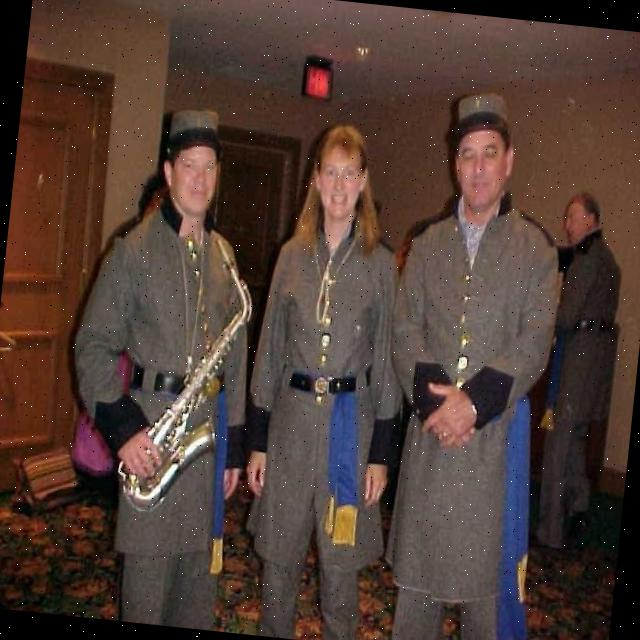saxophone: (114, 230, 260, 520)
